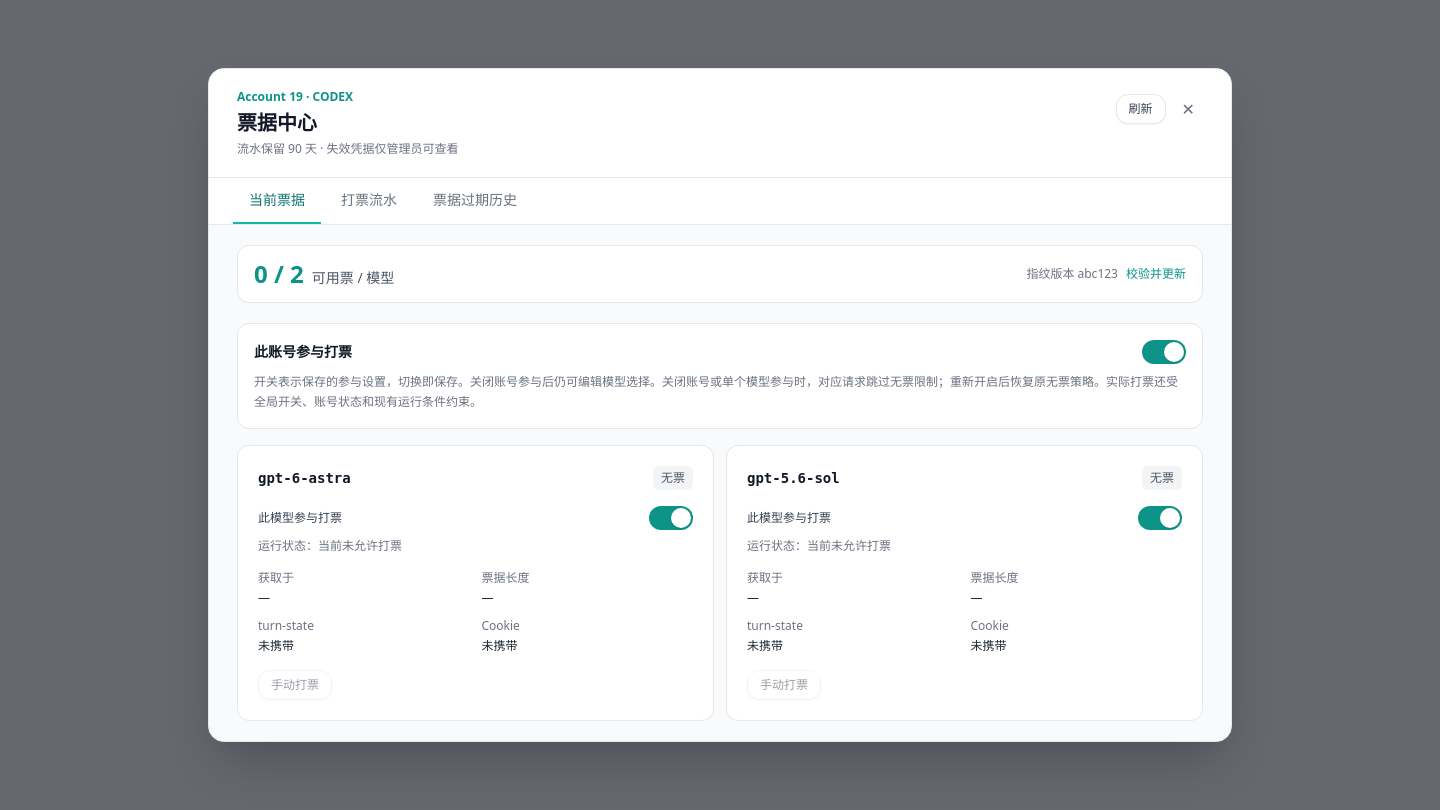
Test: Ticket participation › retains a successful save if details refresh fails and allows retrying refresh
The width and height of the screenshot is (1440, 810).
Click the switch named "此账号参与打票": (1164, 352) [1142,340,1186,364]
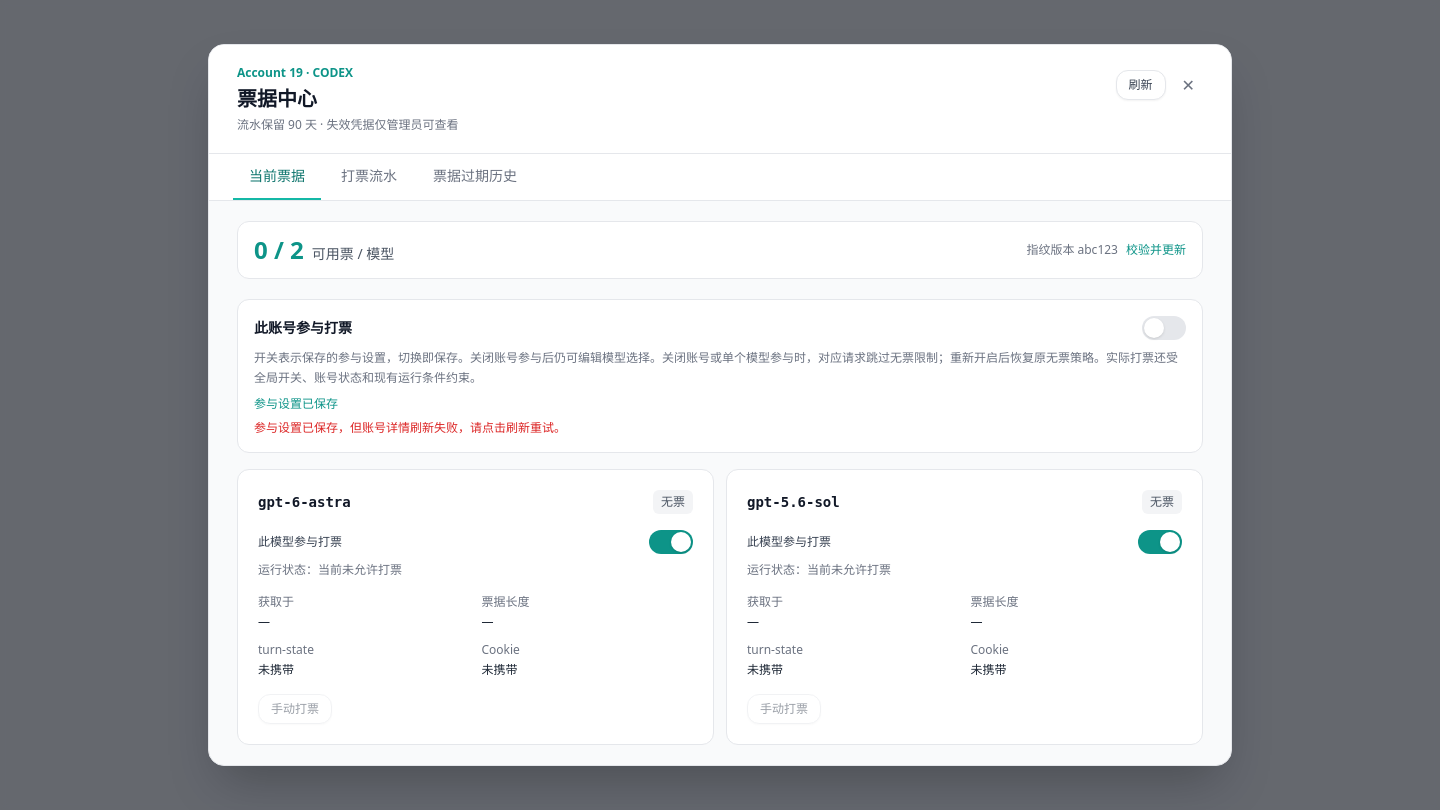
expect the text "参与设置已保存，但账号详情刷新失败" is shown: met, box [254,419,566,436]
Click the button "刷新": (1141, 85) [1116,70,1166,100]
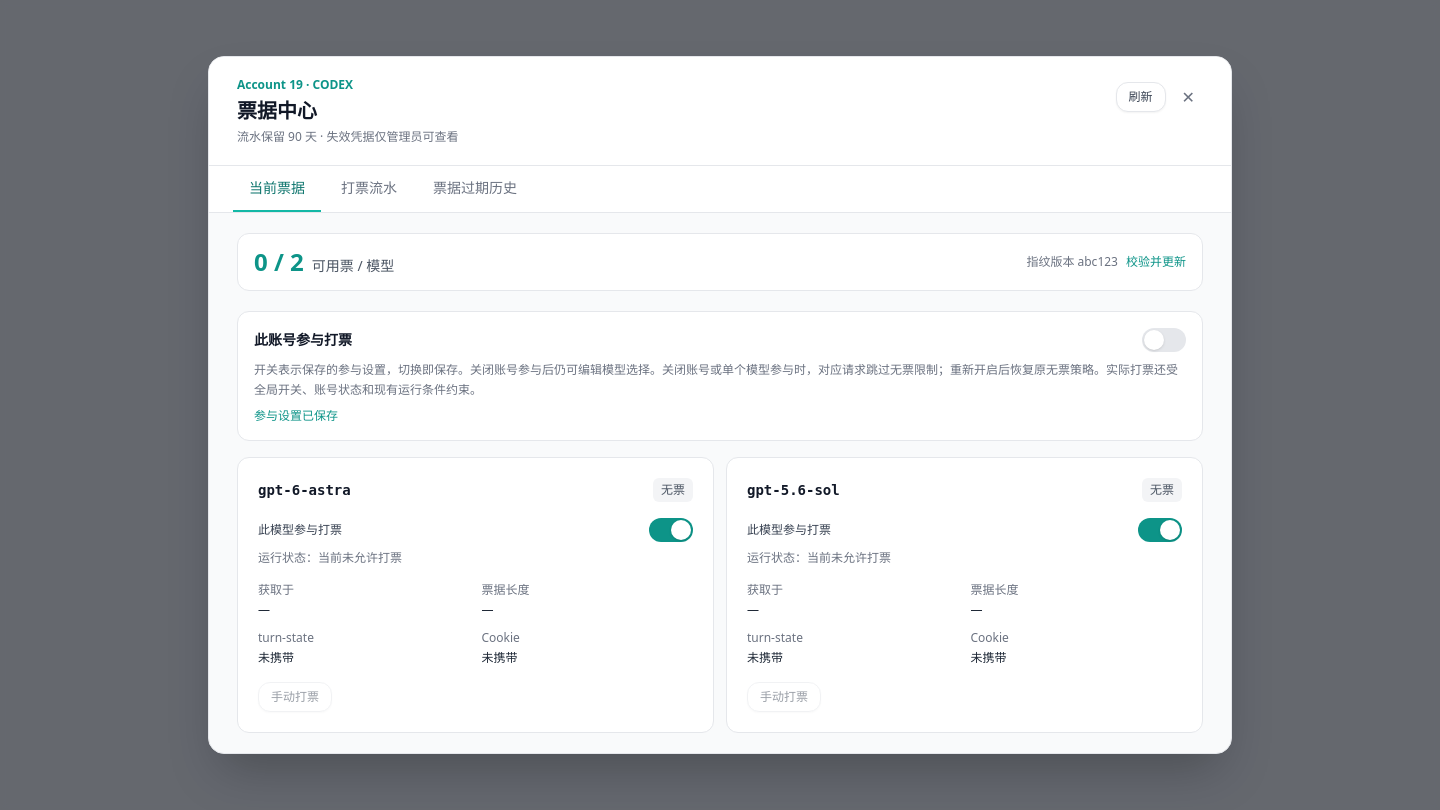
expect the text "账号详情刷新失败" is gone: met
